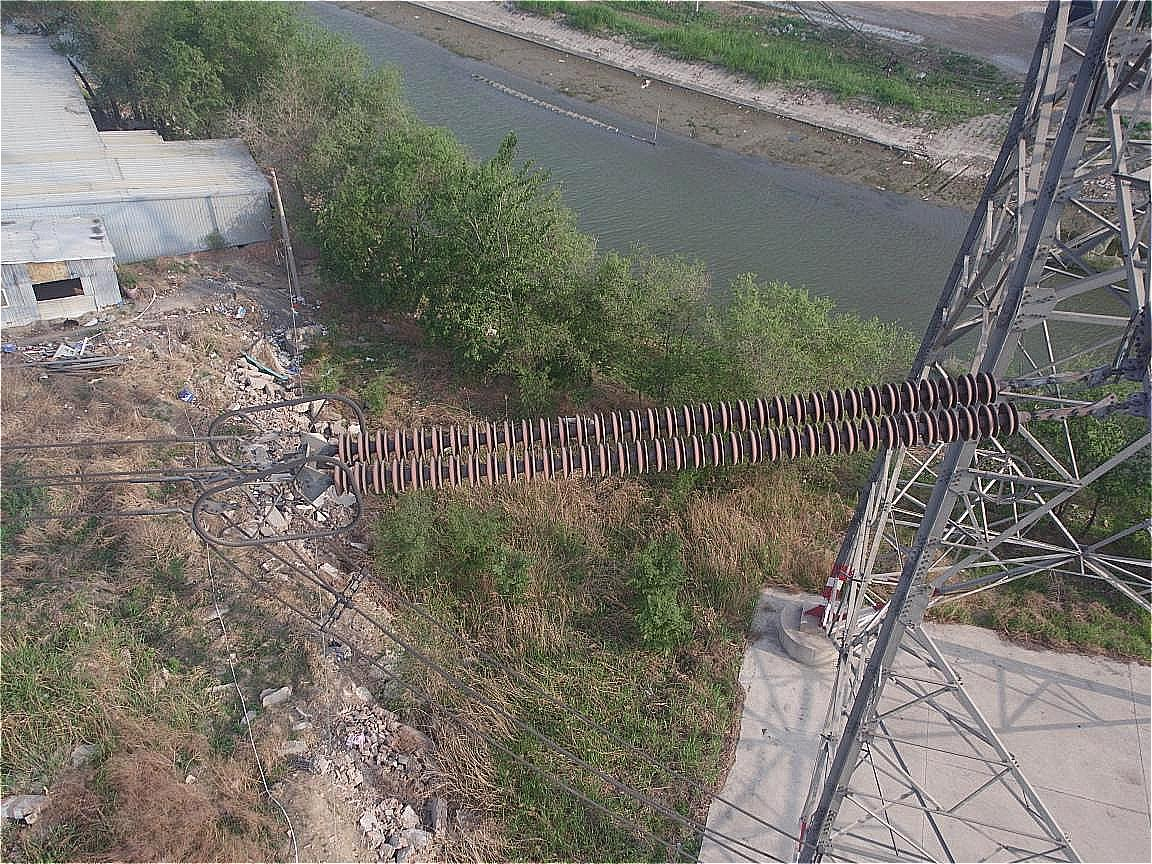insultor2: (323, 347, 1052, 512)
